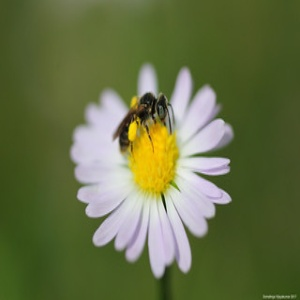bee: (112, 92, 177, 161)
